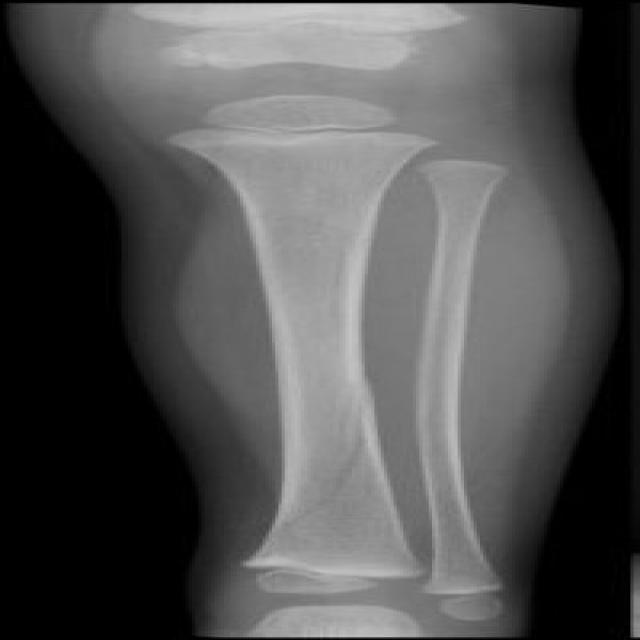Impacted: (240, 380, 434, 541)
